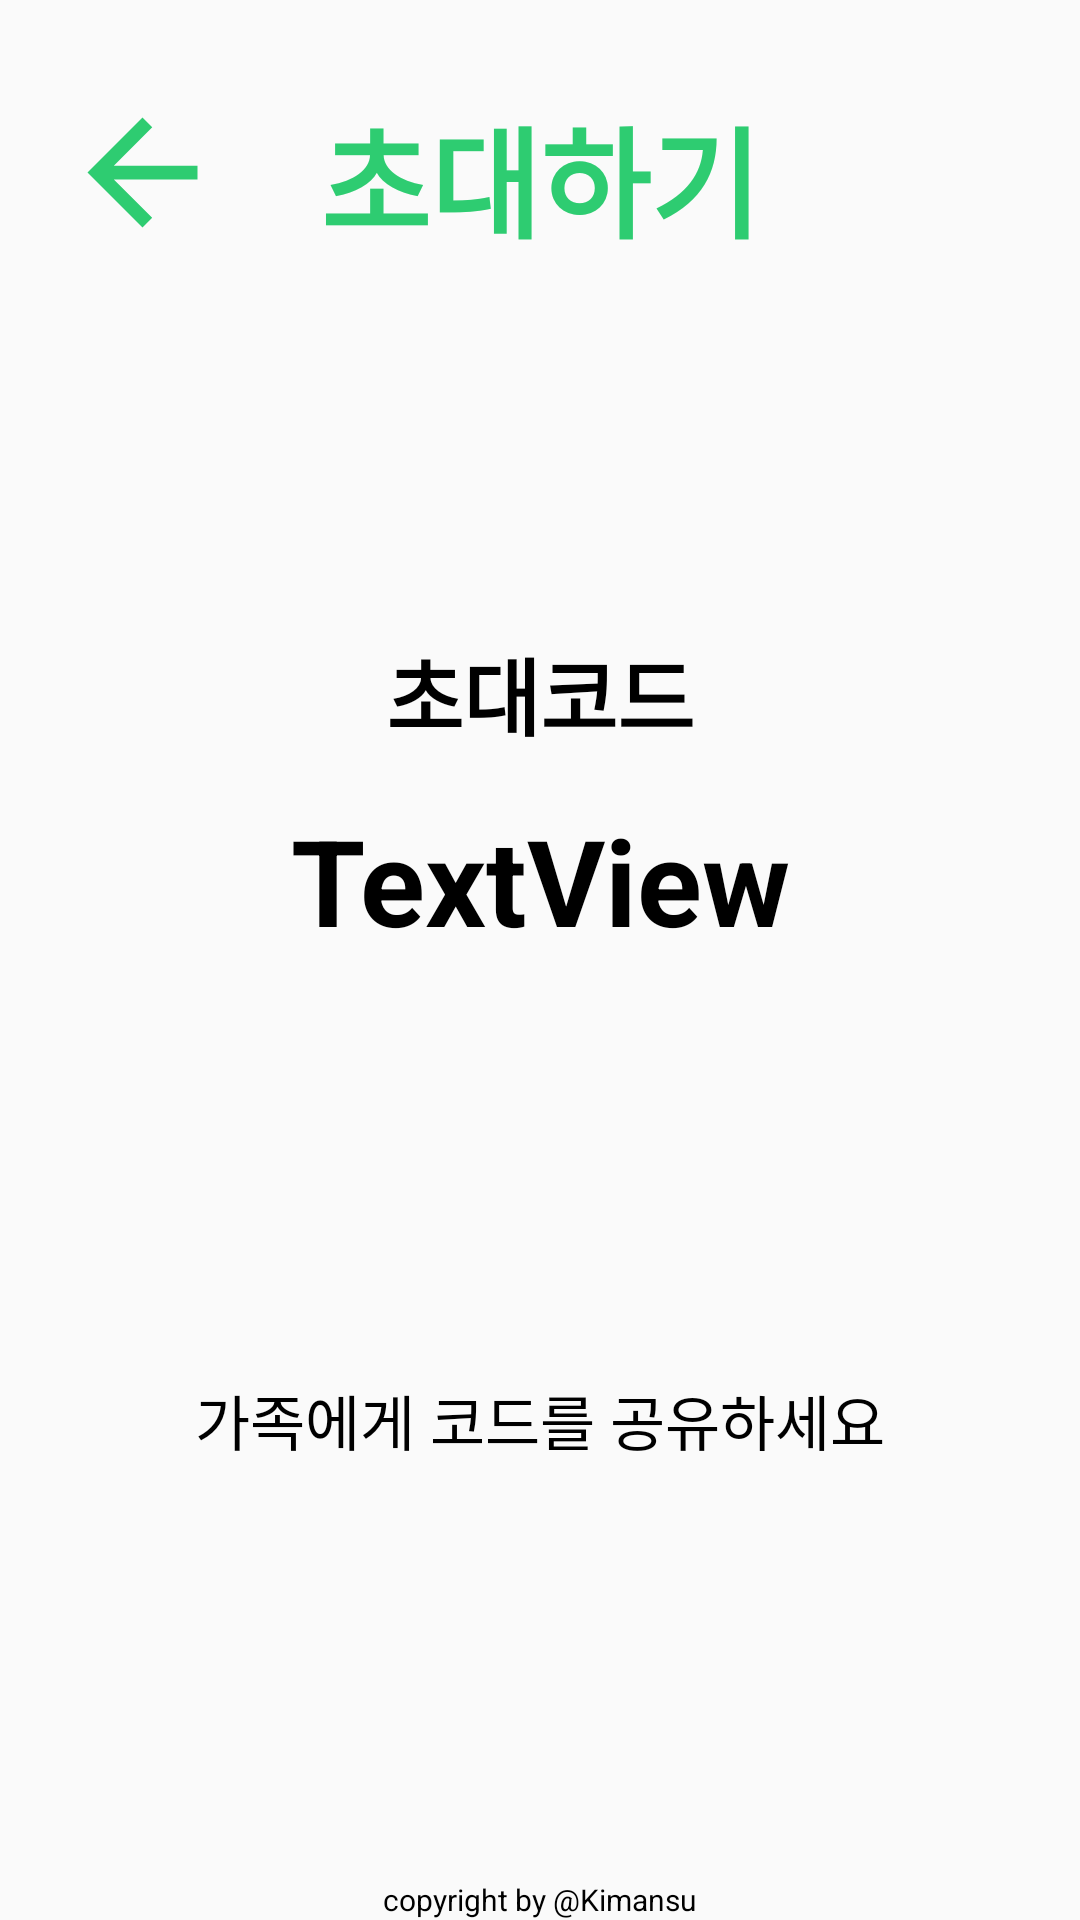

Icons on this 1080 × 1920 Android screen, each with its box as (x1, y1, x2, y2):
back: (87, 117, 198, 228)
